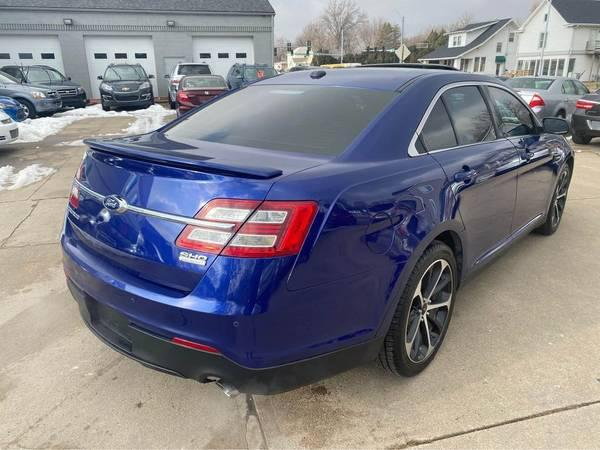Front_Right_Door: (508, 134, 559, 244)
Front_Right_Window: (480, 83, 543, 136)
Rear_Bumper: (57, 228, 413, 390)
Rear_Fender: (264, 144, 464, 294)
Rear_Right_Door: (433, 141, 522, 291)
Rear_Right_Window: (413, 84, 502, 154)
Rear_Windshield: (152, 82, 393, 159)
Right_Taillight: (171, 198, 316, 259)
Roof: (247, 64, 508, 161)
Tailgate: (66, 132, 325, 292)
Wheel: (383, 243, 455, 370), (546, 164, 570, 229)
